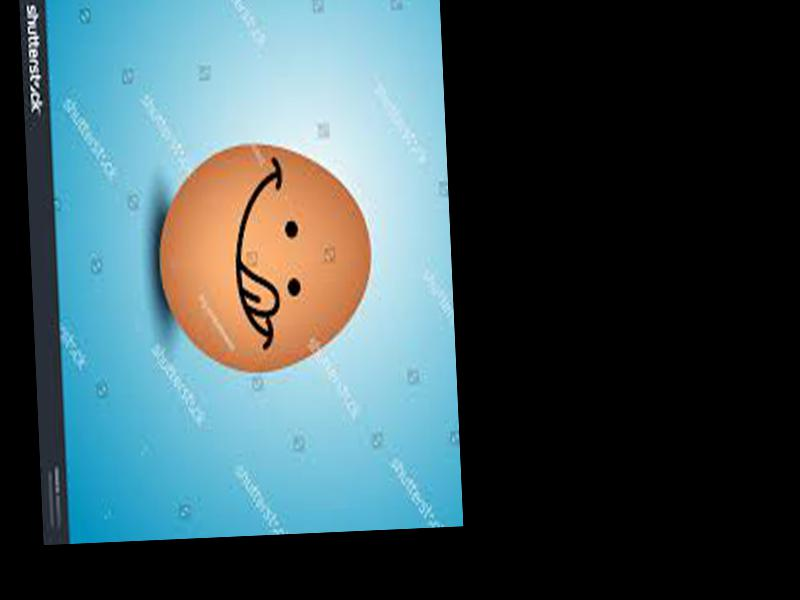Eggs: (154, 138, 376, 377)
